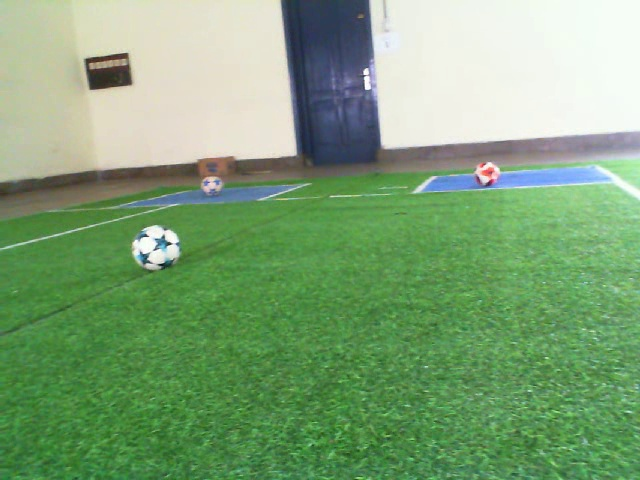ball: (129, 223, 182, 273), (472, 160, 501, 188), (199, 175, 224, 198)
